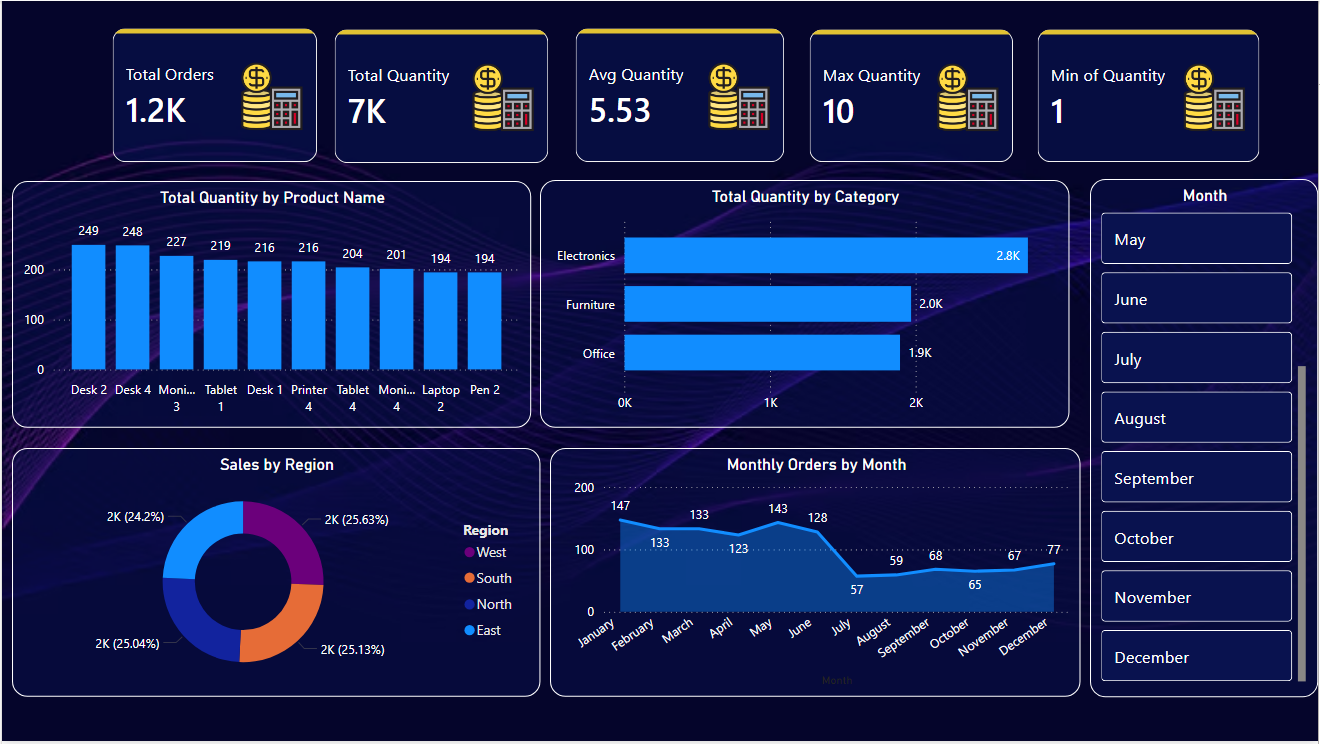

This screenshot's page, from the dashboard's own definition file:
{"tool":"powerbi","page":{"name":"Page 1","canvas":[1280,720],"ordinal":0},"visuals":[{"type":"cardVisual","fields":{"Data":["CountNonNull(Orders.OrderID)"]},"box":[90.5,9.7,233.4,164.4],"z":0},{"type":"cardVisual","fields":{"Data":["Max(Orders.Quantity)"]},"box":[768.4,10.7,232.5,163.4],"z":1000},{"type":"cardVisual","fields":{"Data":["Min(Orders.Quantity)"]},"box":[990.2,10.7,250.9,163.4],"z":2000},{"type":"cardVisual","fields":{"Data":["Sum(Orders.Quantity)"]},"box":[306.4,10.7,242.2,164.4],"z":3000},{"type":"cardVisual","fields":{"Data":["Avg(Orders.Quantity)"]},"box":[540.8,9.7,237.3,164.4],"z":4000},{"type":"clusteredColumnChart","fields":{"Category":["Products.ProductName"],"Y":["Sum(Orders.Quantity)"]},"box":[9.7,175.1,504.8,240.2],"z":5000},{"type":"clusteredBarChart","fields":{"Category":["Products.Category"],"Y":["Sum(Orders.Quantity)"]},"box":[523.3,174.1,514.5,241.2],"z":6000},{"type":"donutChart","fields":{"Category":["Customers.Region"],"Y":["Sum(Orders.Quantity)"]},"box":[9.7,434.8,513.6,242.2],"z":7000},{"type":"areaChart","fields":{"Category":["Orders.OrderDate.Variation.Date Hierarchy.Month"],"Y":["CountNonNull(Orders.OrderID)"]},"box":[533,434.8,516.5,242.2],"z":8000},{"type":"advancedSlicerVisual","fields":{"Values":["Orders.OrderDate.Variation.Date Hierarchy.Month"]},"box":[1058.2,173.1,221.8,503.8],"z":9000}]}

Visuals, with their boxes in screenshot pixels (x1, y1, x2, y2), scaled from the page's 1280x720 canvas onto the 1320x744 screenshot:
cardVisual - CountNonNull(Orders.OrderID): (left=93, top=10, right=334, bottom=180)
cardVisual - Max(Orders.Quantity): (left=792, top=11, right=1032, bottom=180)
cardVisual - Min(Orders.Quantity): (left=1021, top=11, right=1280, bottom=180)
cardVisual - Sum(Orders.Quantity): (left=316, top=11, right=566, bottom=181)
cardVisual - Avg(Orders.Quantity): (left=558, top=10, right=802, bottom=180)
clusteredColumnChart - Products.ProductName x Sum(Orders.Quantity): (left=10, top=181, right=531, bottom=429)
clusteredBarChart - Products.Category x Sum(Orders.Quantity): (left=540, top=180, right=1070, bottom=429)
donutChart - Customers.Region x Sum(Orders.Quantity): (left=10, top=449, right=540, bottom=700)
areaChart - Orders.OrderDate.Variation.Date Hierarchy.Month x CountNonNull(Orders.OrderID): (left=550, top=449, right=1082, bottom=700)
advancedSlicerVisual - Orders.OrderDate.Variation.Date Hierarchy.Month: (left=1091, top=179, right=1319, bottom=699)
